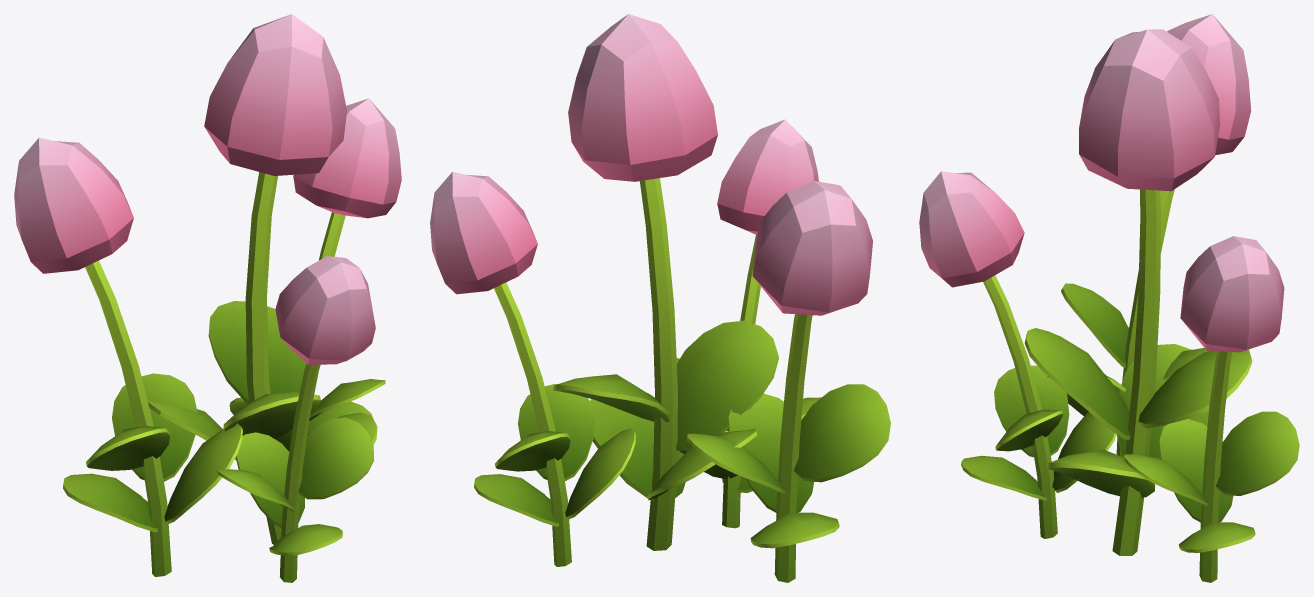
Rendered from mt_prop_p05.fbx.
The picture shows the model from 3 angles, left to right: view 1: azimuth 30°, elevation 25°; view 2: azimuth 150°, elevation 25°; view 3: azimuth 270°, elevation 25°; orthographic projection. The views are drawn at different scales.
Visible parts, largest first — view 1: prop_p05; view 2: prop_p05; view 3: prop_p05.
Part boxes in pixels (left/top/right/bottom): prop_p05: left=14, top=14, right=401, bottom=582; prop_p05: left=430, top=14, right=890, bottom=582; prop_p05: left=919, top=14, right=1299, bottom=582.
Size of the model in its own units: 81.23 by 102 by 66.12.
